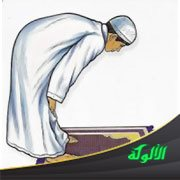ruku: (3, 4, 136, 164)
